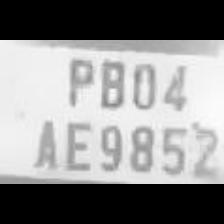0: (126, 55, 158, 111)
2: (186, 119, 218, 181)
4: (156, 59, 190, 111)
5: (156, 117, 188, 177)
8: (124, 119, 156, 175)
9: (94, 119, 122, 173)
A: (26, 114, 58, 172)
B: (94, 55, 126, 109)
E: (58, 115, 92, 173)
P: (60, 53, 96, 107)
